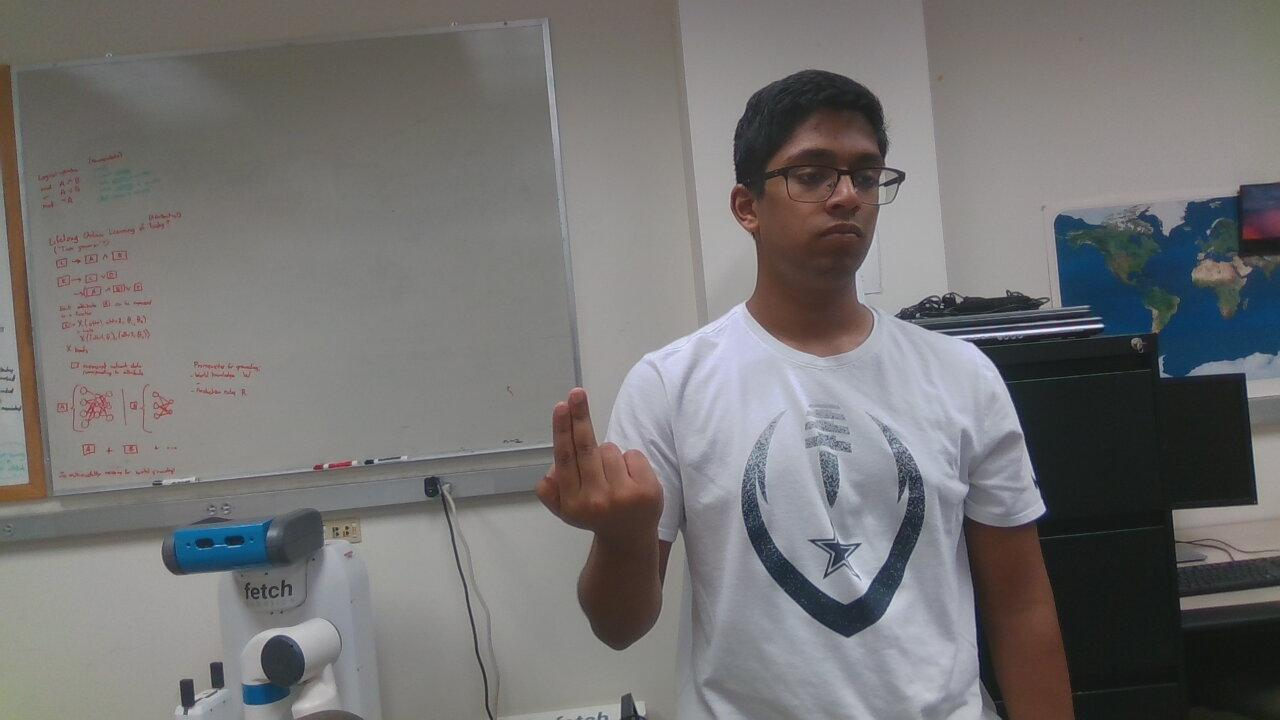hands: (500, 381, 678, 564)
